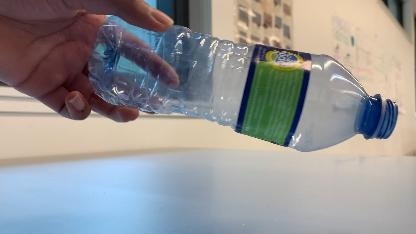Plastic Bottle: (86, 10, 402, 164)
